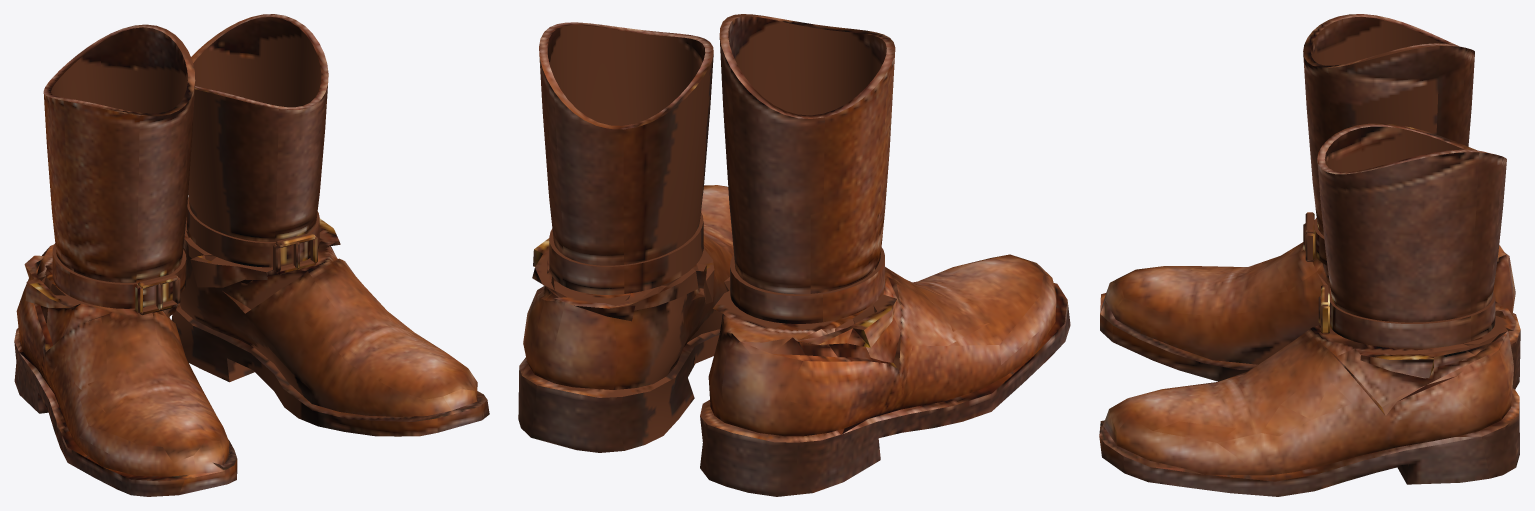
File: item_6boots1.glb
3 renders of one model, left to right at view 1: azimuth 30°, elevation 25°; view 2: azimuth 150°, elevation 25°; view 3: azimuth 270°, elevation 25°, orthographic. The views are drawn at different scales.
Parts seen in each view (by area): view 1: equipment_6boots1; view 2: equipment_6boots1; view 3: equipment_6boots1.
Boxes of the visible parts, x1,y1,x2,y2 form: equipment_6boots1: (14, 14, 489, 496); equipment_6boots1: (518, 14, 1070, 496); equipment_6boots1: (1099, 14, 1520, 496).
Bounding box in the file's own units: 0.9984 × 0.9453 × 1.
1 material, 1 textured.
